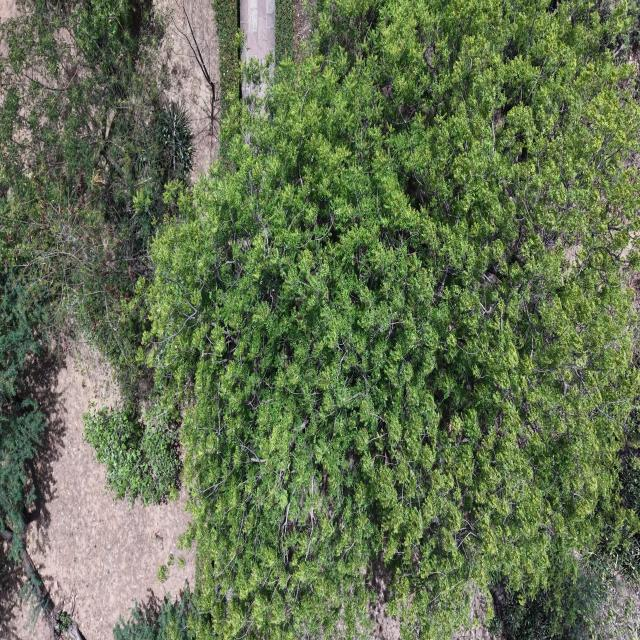DRY_AREA: (28, 345, 194, 639), (28, 346, 194, 639), (155, 0, 219, 181), (156, 0, 219, 181), (239, 0, 275, 61), (240, 0, 275, 60), (293, 0, 314, 61), (0, 0, 17, 21)
VEGETATION_TREE: (0, 0, 639, 639), (147, 0, 639, 637), (0, 0, 192, 637), (0, 0, 192, 390), (0, 269, 57, 633), (492, 526, 639, 639), (0, 270, 45, 560), (492, 557, 639, 639), (84, 403, 178, 503), (169, 3, 220, 152), (114, 587, 195, 639), (213, 0, 241, 117), (159, 102, 194, 180), (275, 0, 293, 63), (56, 611, 72, 635), (158, 565, 169, 583)
